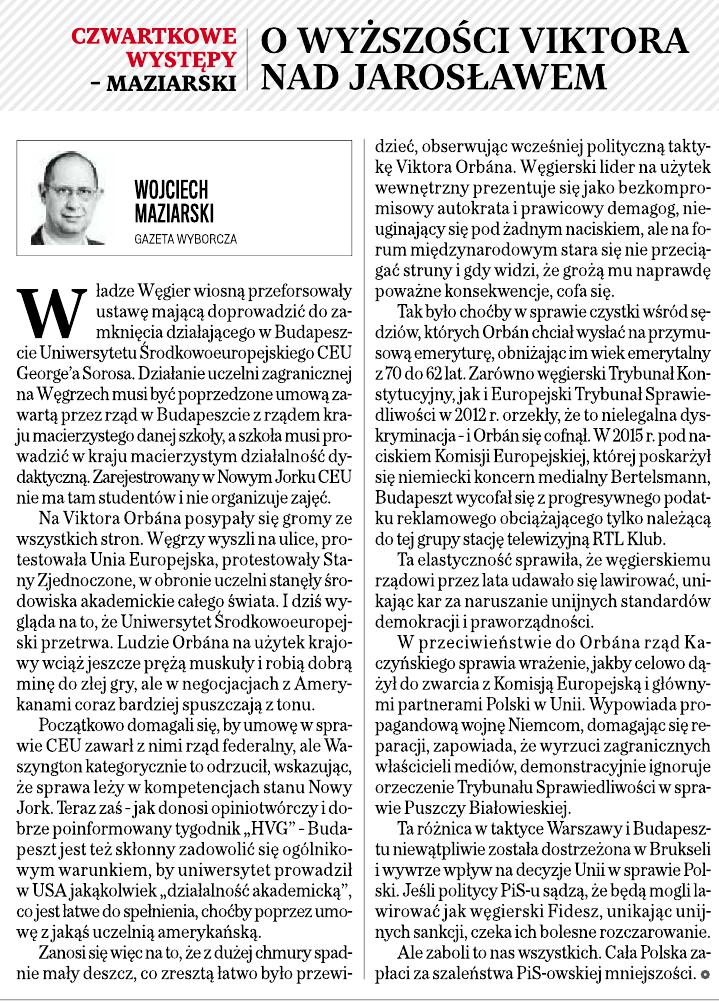author: (129, 169, 222, 228)
body: (370, 134, 719, 990), (8, 273, 360, 988)
title: (64, 17, 697, 103)
